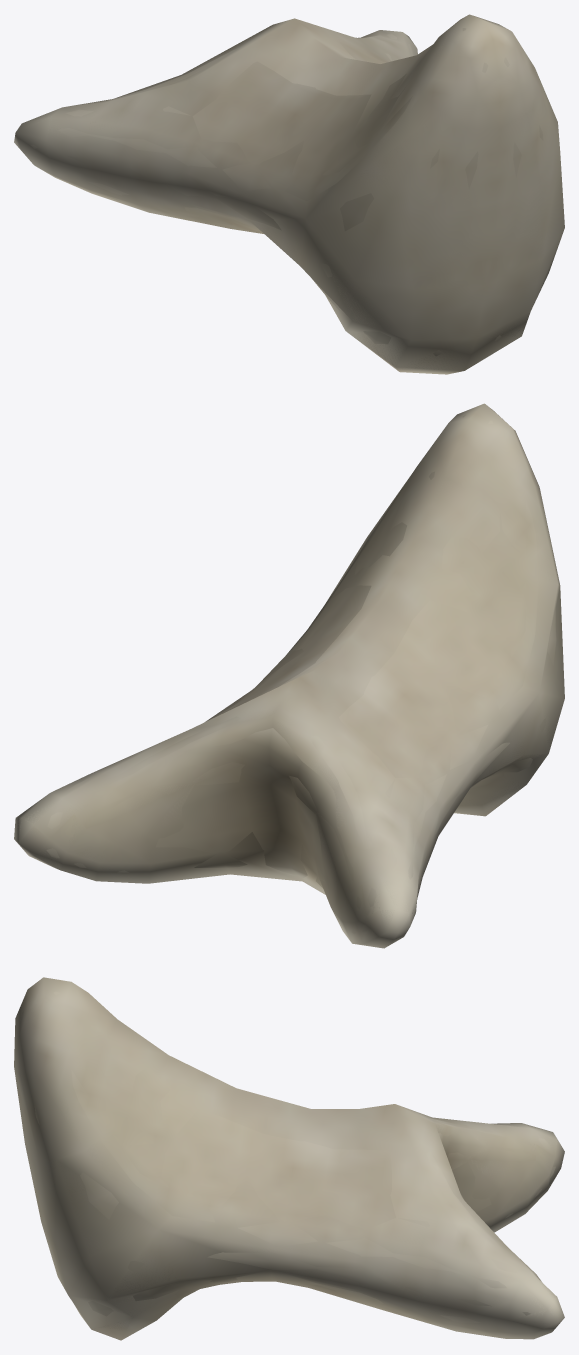
Rendered from vertebrae caudales 01.fbx.
3 renders of one model, top to bottom at view 1: azimuth 30°, elevation 25°; view 2: azimuth 150°, elevation 25°; view 3: azimuth 270°, elevation 25°, orthographic. The views are drawn at different scales.
Parts seen in each view (by area): view 1: vertebrae caudales 01, vertebrae caudales 01 high, vertebrae caudales 01 low; view 2: vertebrae caudales 01, vertebrae caudales 01 high, vertebrae caudales 01 low; view 3: vertebrae caudales 01, vertebrae caudales 01 high, vertebrae caudales 01 low.
Boxes of the visible parts, x1=… form: vertebrae caudales 01: x1=14, y1=14, x2=564, y2=374; vertebrae caudales 01 high: x1=30, y1=22, x2=543, y2=356; vertebrae caudales 01 low: x1=15, y1=18, x2=559, y2=371; vertebrae caudales 01: x1=14, y1=403, x2=564, y2=948; vertebrae caudales 01 high: x1=46, y1=414, x2=556, y2=934; vertebrae caudales 01 low: x1=14, y1=406, x2=564, y2=945; vertebrae caudales 01: x1=14, y1=977, x2=564, y2=1340; vertebrae caudales 01 high: x1=21, y1=991, x2=555, y2=1332; vertebrae caudales 01 low: x1=15, y1=978, x2=562, y2=1338.
Bounding box in the file's own units: 1.18 × 1.09 × 1.54.
1 material, 1 textured.
